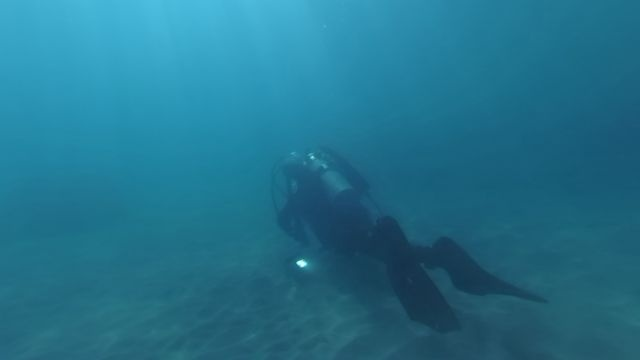Diver: (263, 140, 557, 341)
